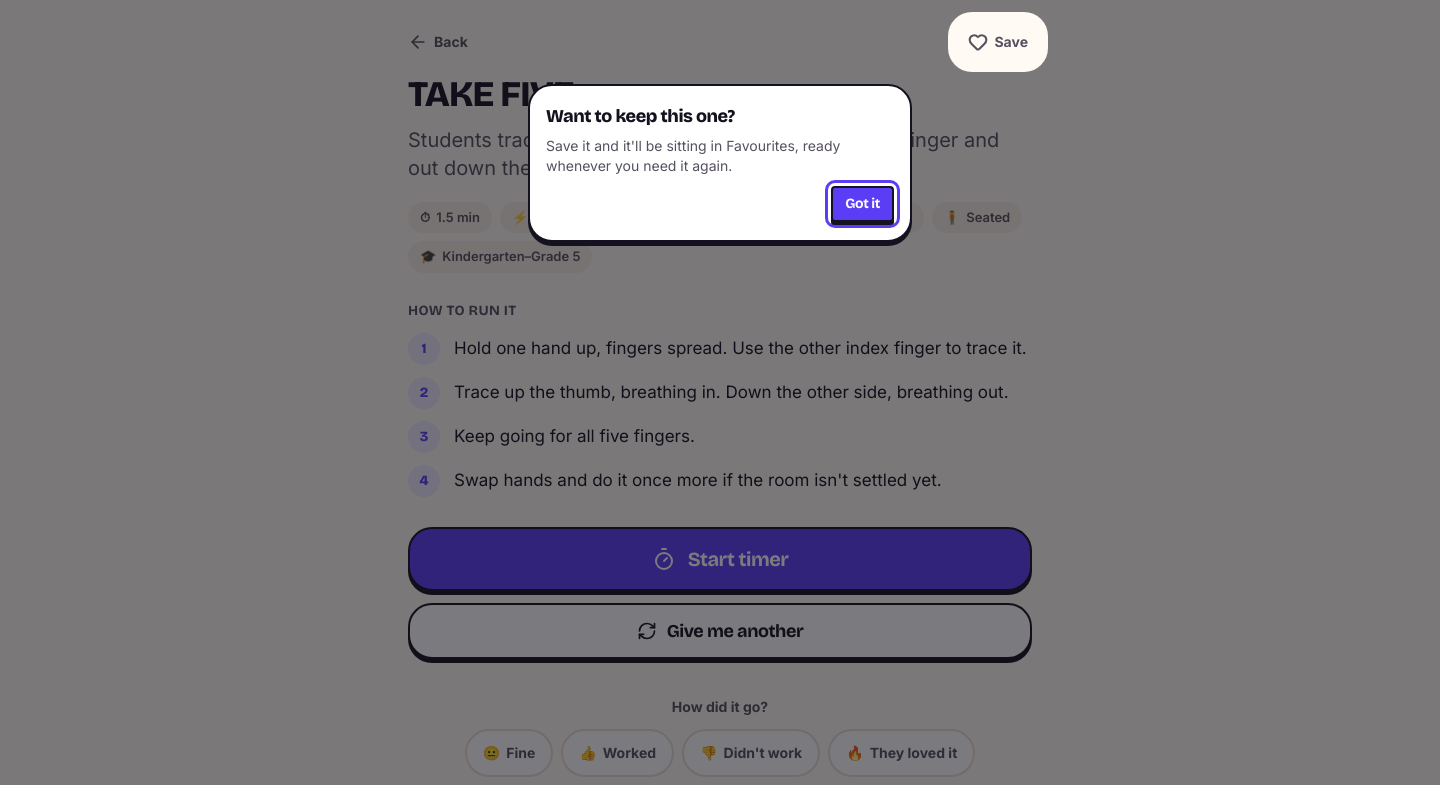
Test case: ActivityScreen guided tour › save is the last stop — Got it ends the tour rather than advancing further
The width and height of the screenshot is (1440, 785).
Step 1. Click the button "Got it" → [863, 204], box left=831, top=186, right=894, bottom=222
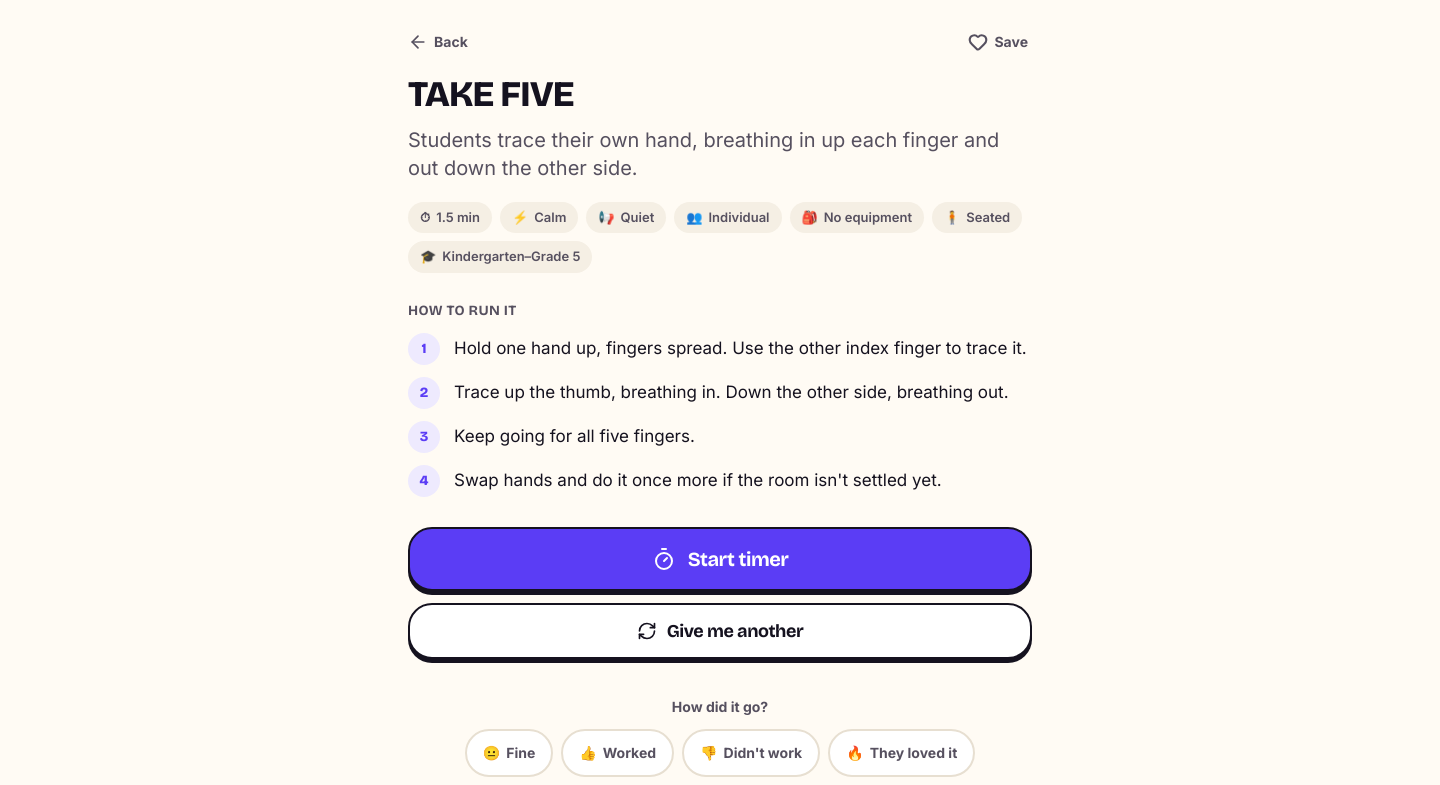
Check: the text "Want to keep this one?" is gone
